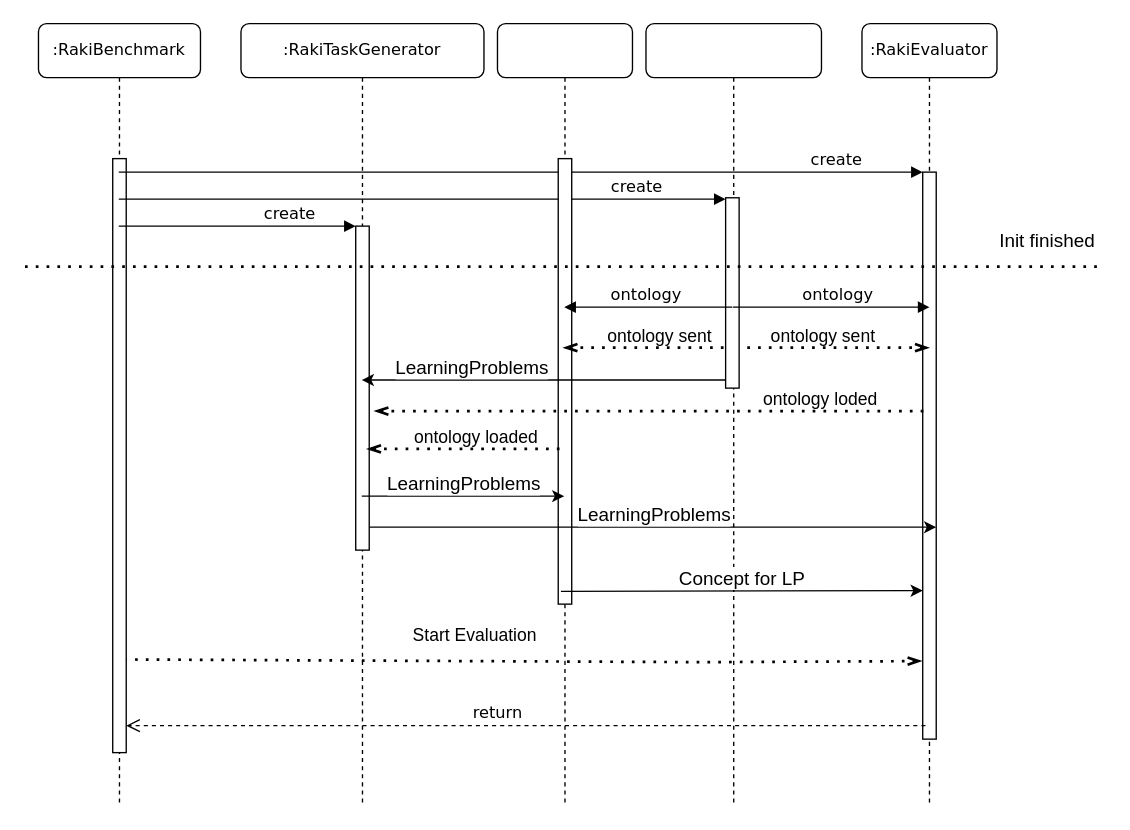
Some shapes in this 1130 by 830 pixel diagram are drawn without their labels. Each missing label, with the box of its shape:
:RakiDataGenerator: (645, 22, 821, 807)
:RakiSystem: (496, 22, 632, 807)
